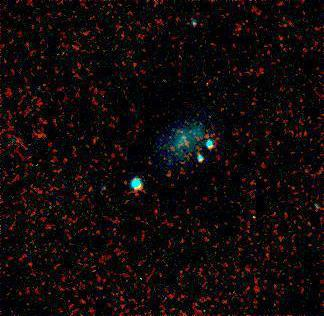star: (155, 126, 185, 156)
